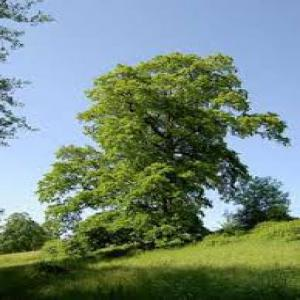Tree: (36, 49, 288, 243)
